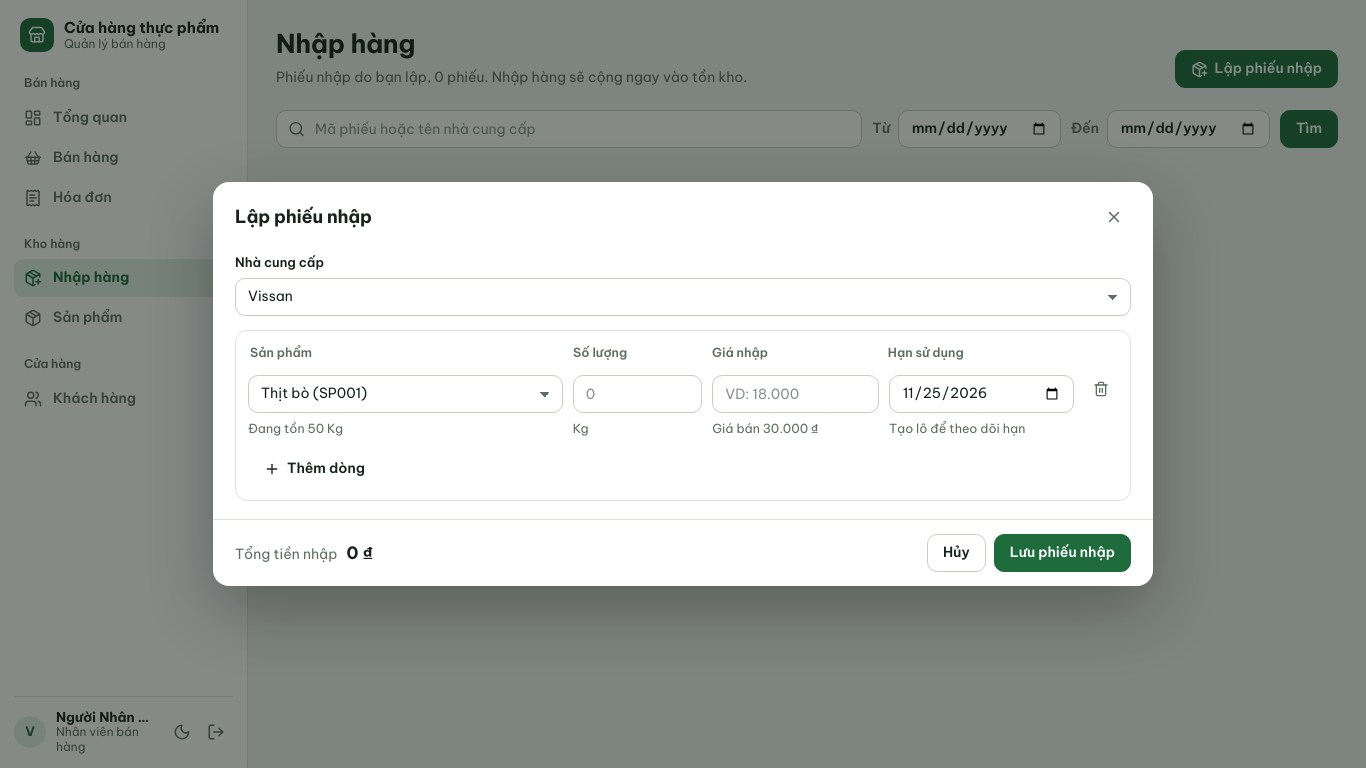
it: App › nhập hàng từ cảnh báo tồn kho: chọn sẵn sản phẩm, gợi ý hạn dùng, gửi đúng dữ liệu
expect the dropdown named "Sản phẩm dòng 1" shows "Thịt bò (SP001)": met, box top-left (248, 375), bottom-right (563, 413)
Click the button "Lưu phiếu nhập": (1062, 553) top-left (994, 534), bottom-right (1131, 572)
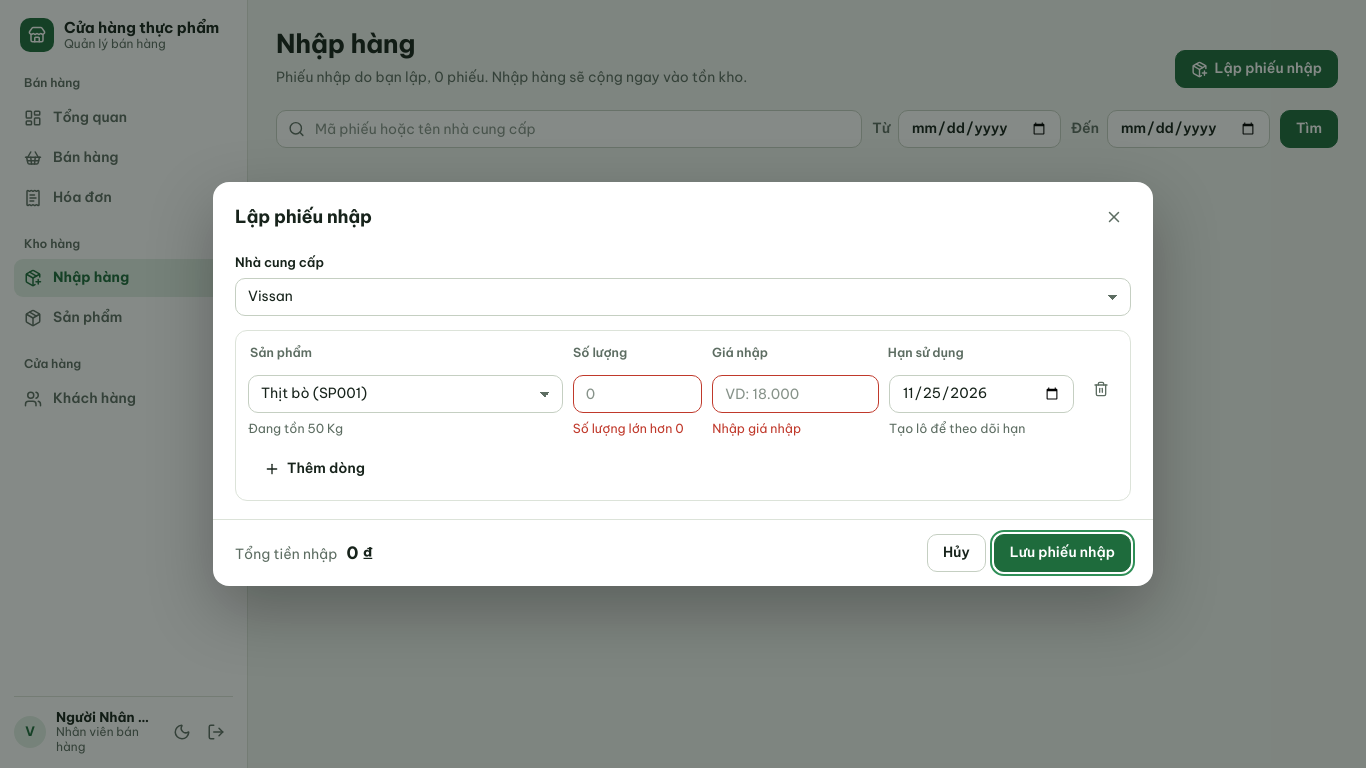
expect the text "Số lượng lớn hơn 0" is shown: met, box top-left (573, 419), bottom-right (702, 438)
In the field named "Số lượng dòng 1": (638, 394) top-left (573, 375), bottom-right (702, 413), type "50"
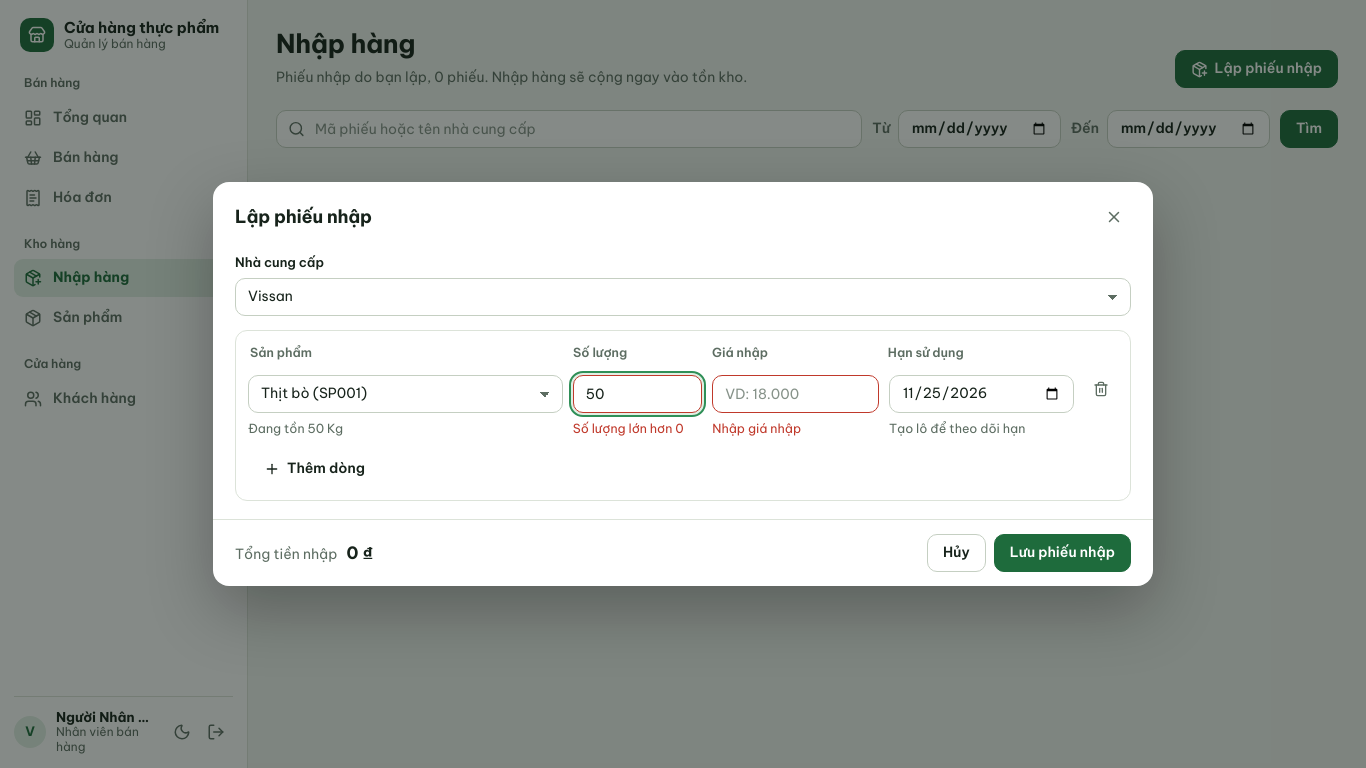
In the field named "Giá nhập dòng 1": (796, 394) top-left (712, 375), bottom-right (879, 413), type "20.000"
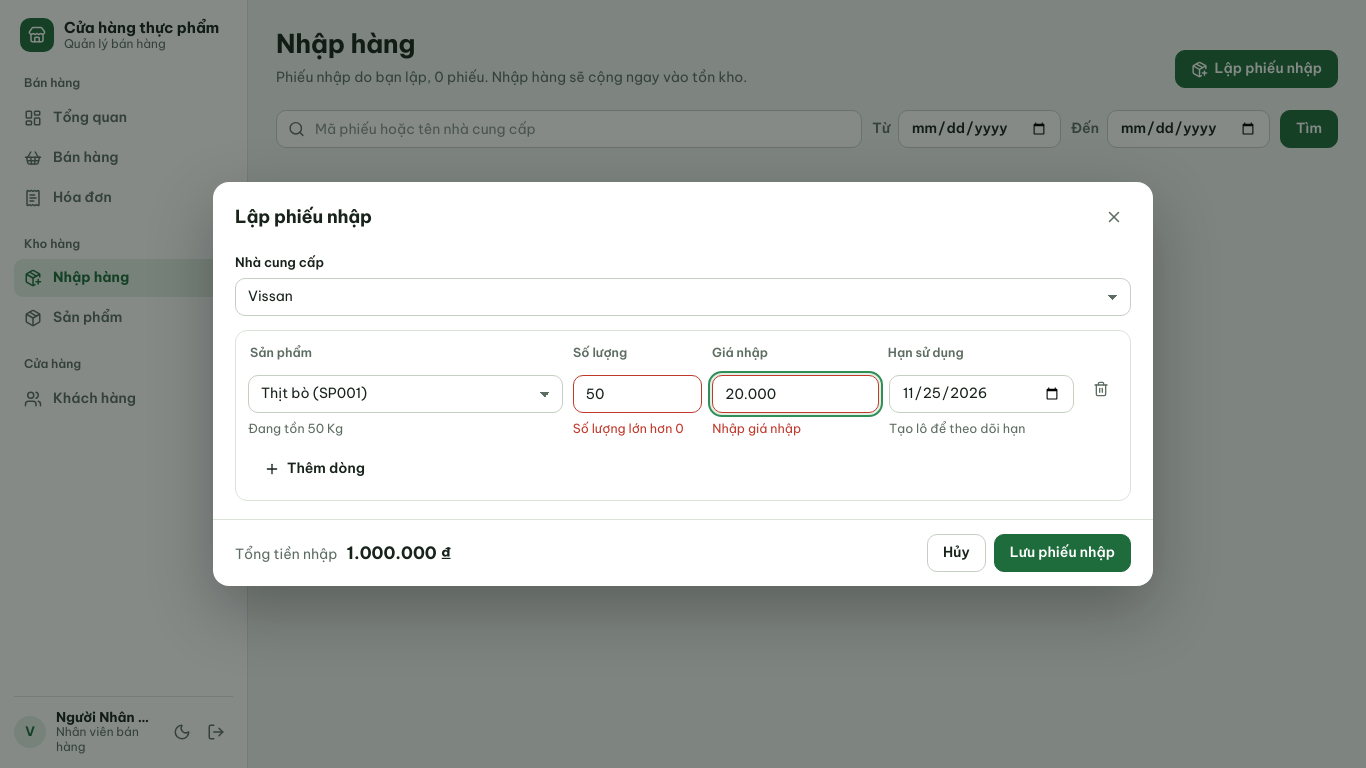
expect the text "1.000.000 ₫" is shown: met, box top-left (347, 542), bottom-right (452, 564)
Click the button "Lưu phiếu nhập": (1062, 553) top-left (994, 534), bottom-right (1131, 572)
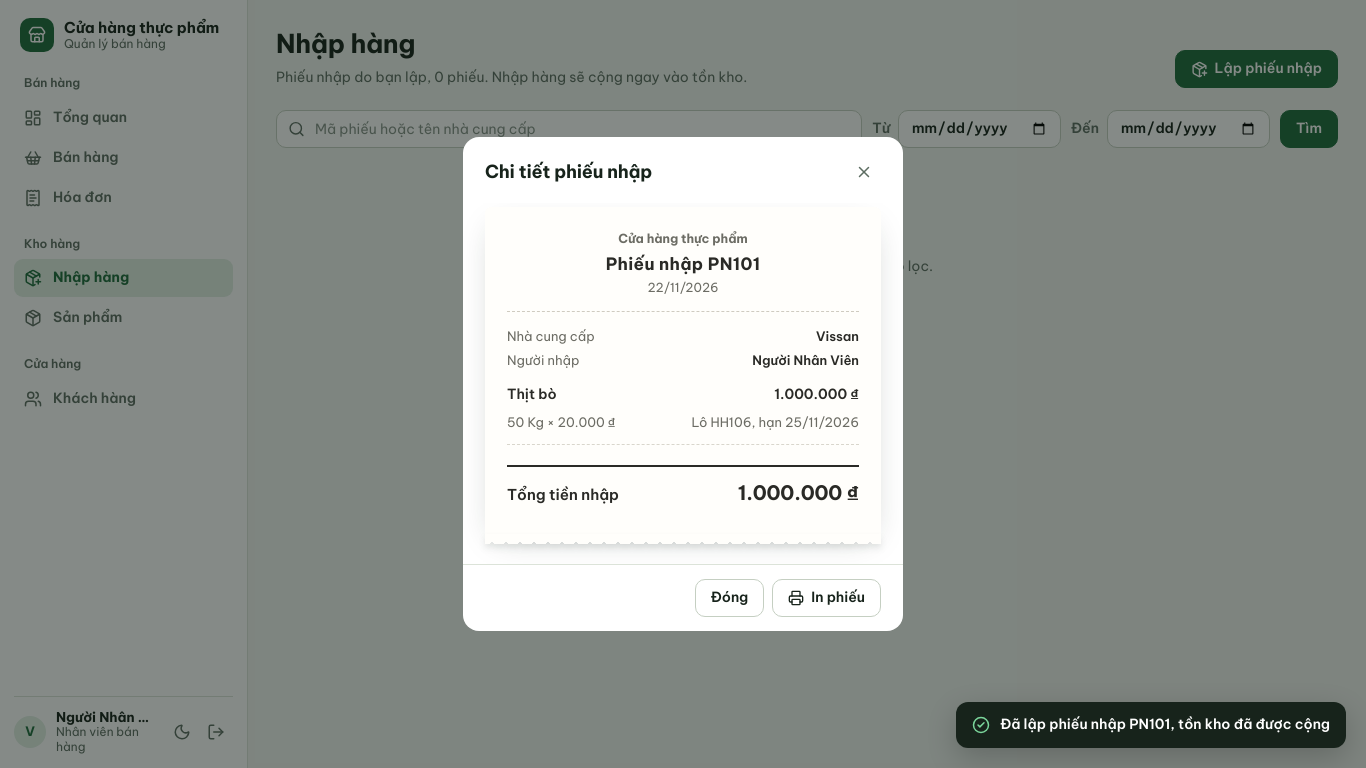
expect the text "Đã lập phiếu nhập PN101, tồn kho đã được cộng" is shown: met, box top-left (1000, 714), bottom-right (1330, 736)
